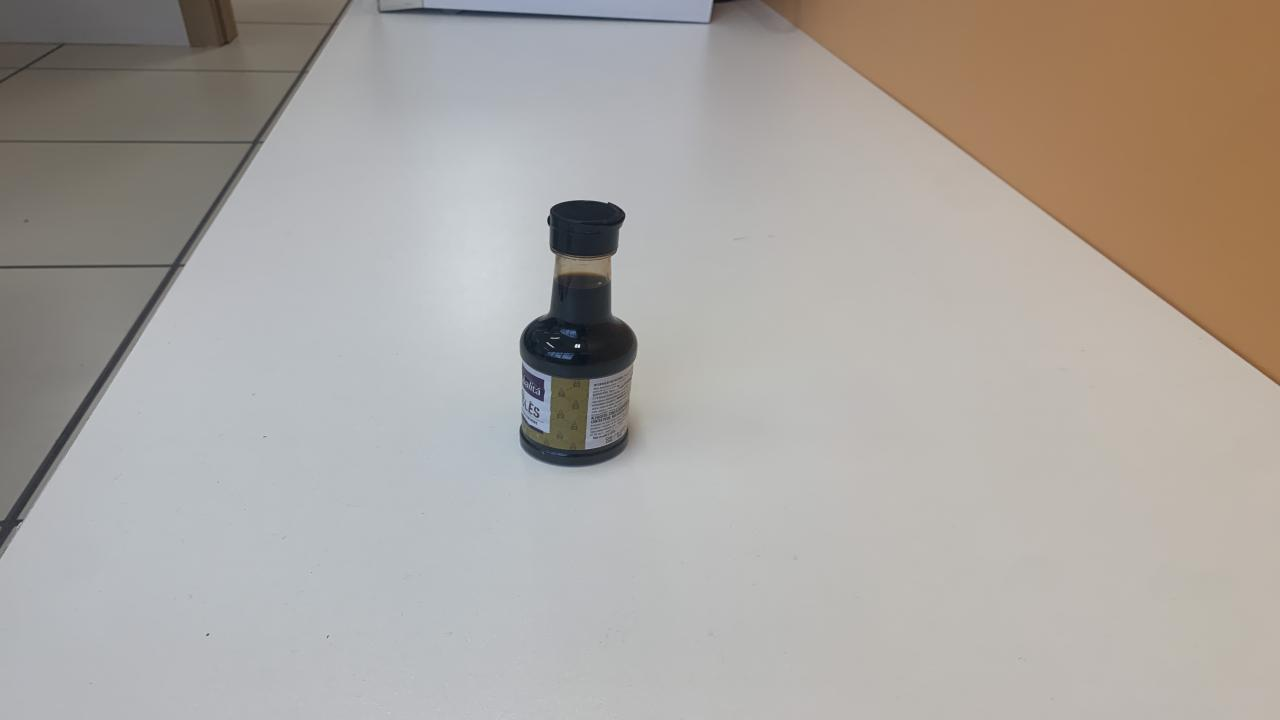English_Sauce-Pantry_Items: (520, 201, 638, 465)
